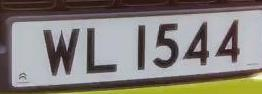1: (127, 17, 155, 76)
4: (212, 12, 244, 72), (182, 14, 213, 73)
5: (149, 16, 184, 75)
L: (81, 22, 122, 79)
W: (41, 22, 81, 80)
